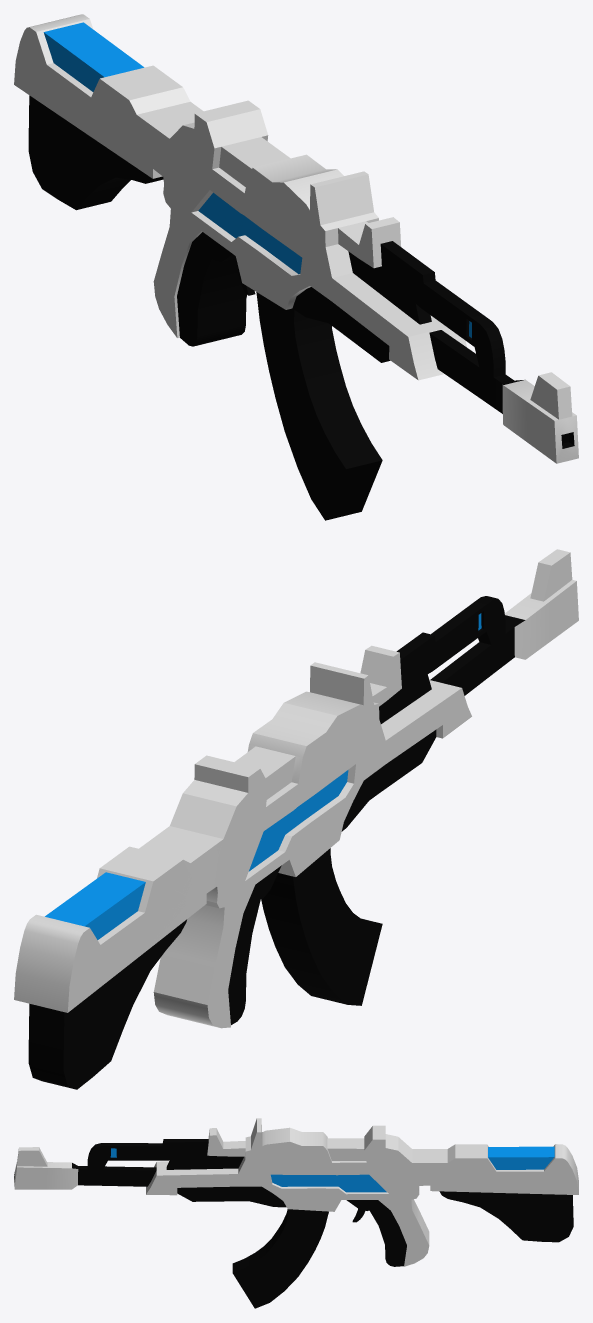
3 views of the same model, one above another, from view 1: azimuth 30°, elevation 25°; view 2: azimuth 150°, elevation 25°; view 3: azimuth 270°, elevation 25° (orthographic). The views are drawn at different scales.
Visible parts, largest first — view 1: AK; view 2: AK; view 3: AK.
Boxes of the visible parts, x1,y1,x2,y2 form: AK: (14, 14, 578, 520); AK: (14, 549, 578, 1089); AK: (14, 1118, 578, 1308).
Size of the model in its own units: 18.92 by 112 by 321.
